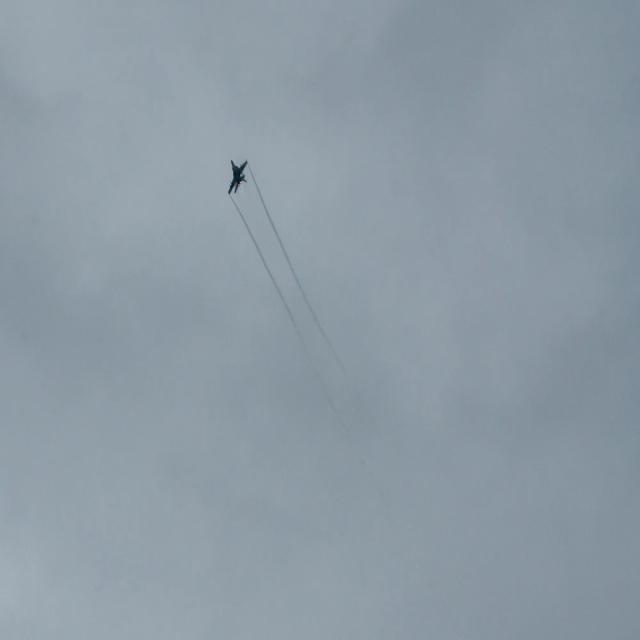MIL_Plane: (228, 158, 248, 196)
